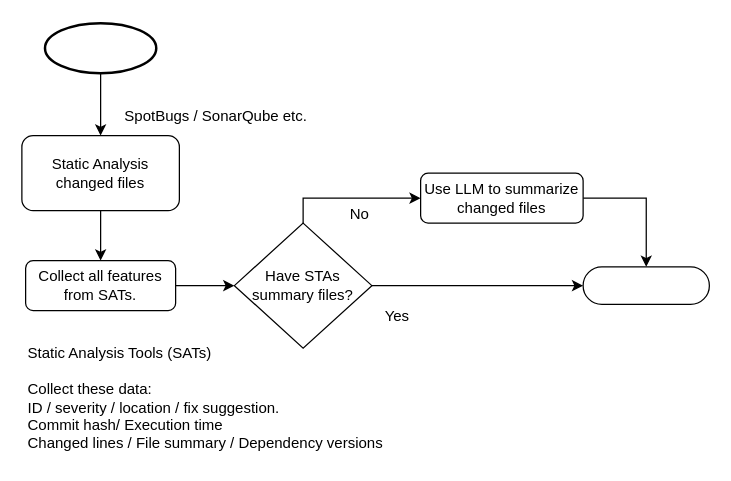
This 731x481 diagram has some shape labels left out. Here are the shapes that lost their labels. From the top down, the box of each, then its label:
(43, 21, 157, 74): CI Trigger
(582, 266, 709, 304): output as json
